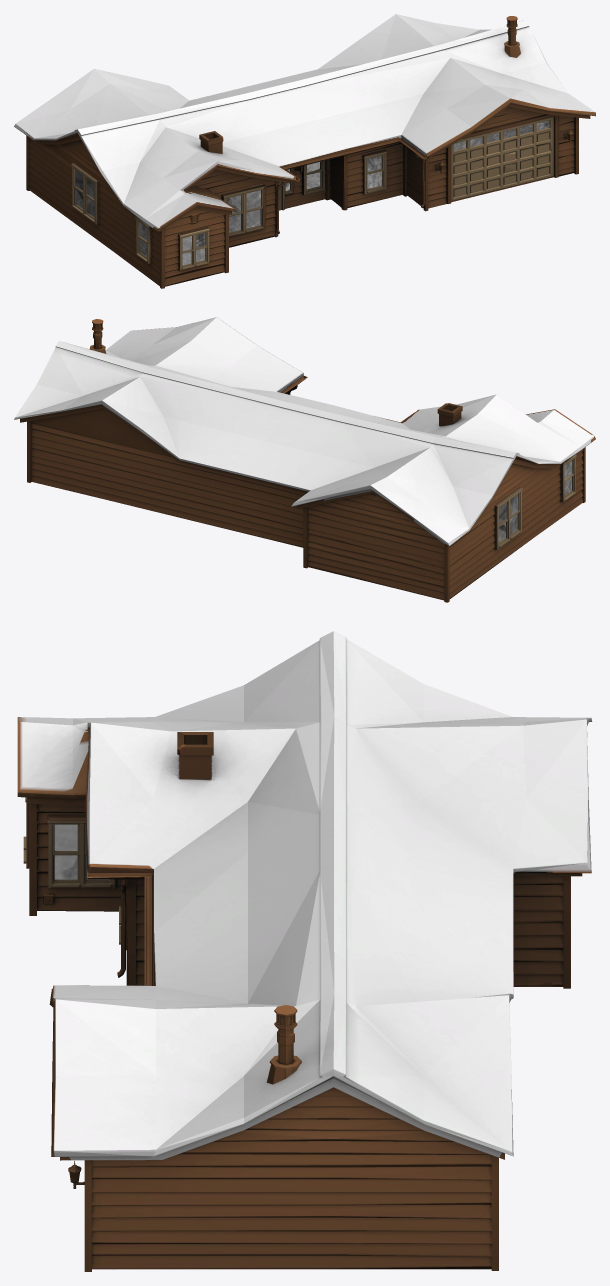
The model's file is 6RoomHouse.fbx.
The picture shows the model from 3 angles, top to bottom: view 1: azimuth 30°, elevation 25°; view 2: azimuth 150°, elevation 25°; view 3: azimuth 270°, elevation 25°; orthographic projection. The views are drawn at different scales.
Parts seen in each view (by area): view 1: SM_House_02.mo; view 2: SM_House_02.mo; view 3: SM_House_02.mo.
Boxes of the visible parts, left/top/right/bottom form: SM_House_02.mo: left=14, top=14, right=595, bottom=288; SM_House_02.mo: left=14, top=317, right=595, bottom=602; SM_House_02.mo: left=17, top=631, right=592, bottom=1271.
Bounding box in the file's own units: 2090 × 546 × 1158.
